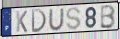8: (84, 6, 98, 30)
B: (100, 4, 117, 30)
D: (31, 9, 48, 34)
K: (16, 11, 29, 34)
S: (65, 7, 82, 31)
U: (48, 8, 65, 32)
